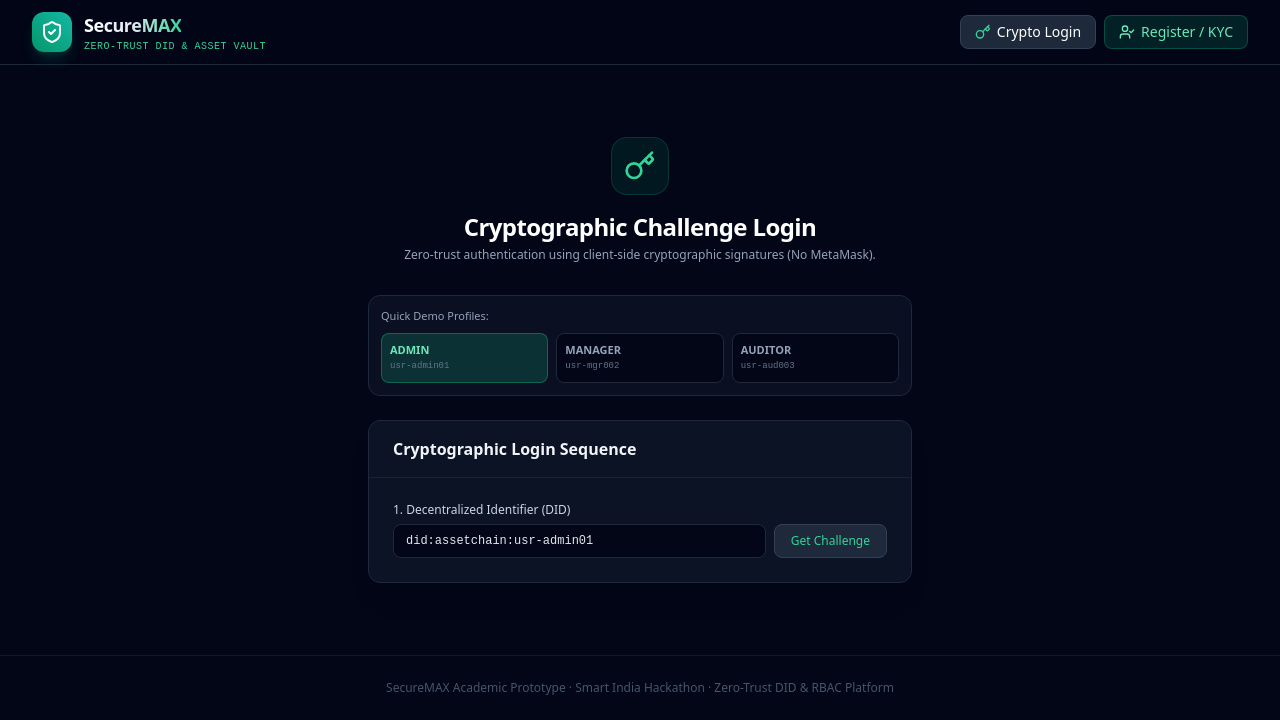
Test: Frontend UI Components & Navigation › should navigate to KYC registration and allow generating keypairs
Click the button "Register / KYC" at x=1176, y=32, box [1104,15,1248,49]
(page scrolled)
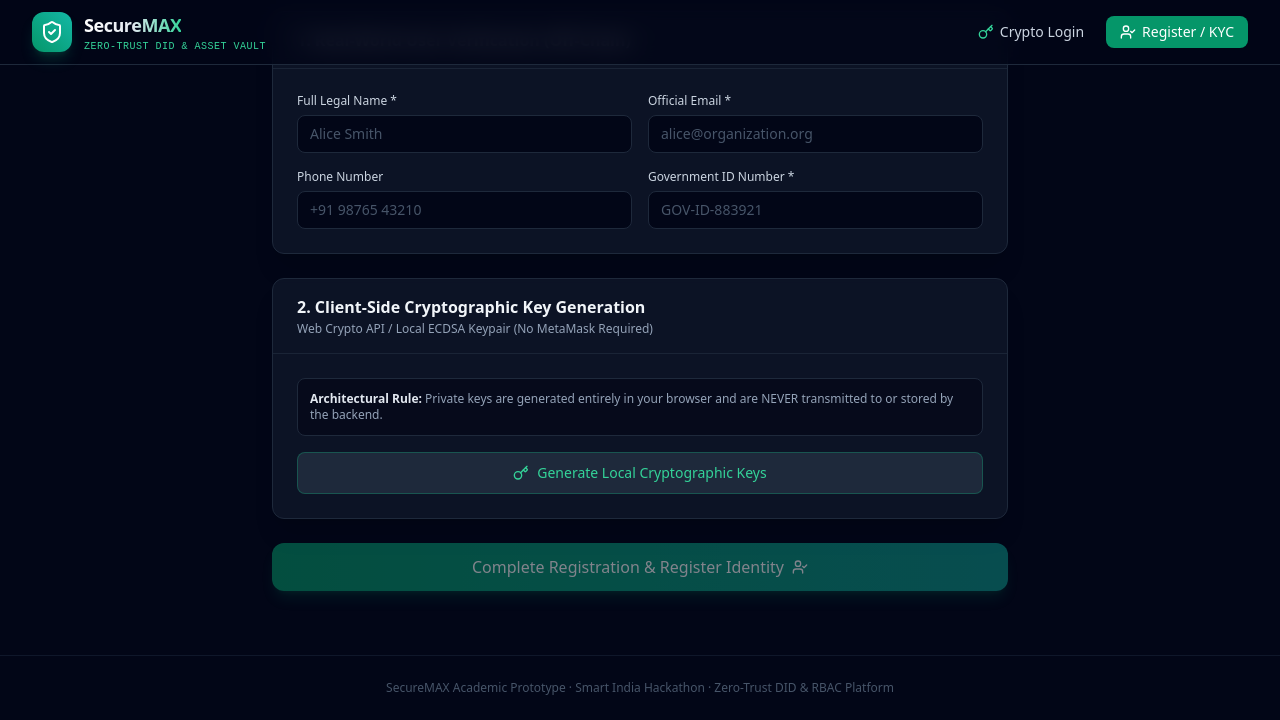
Click the button "Generate Local Cryptographic Keys" at x=640, y=473, box [297,452,983,494]
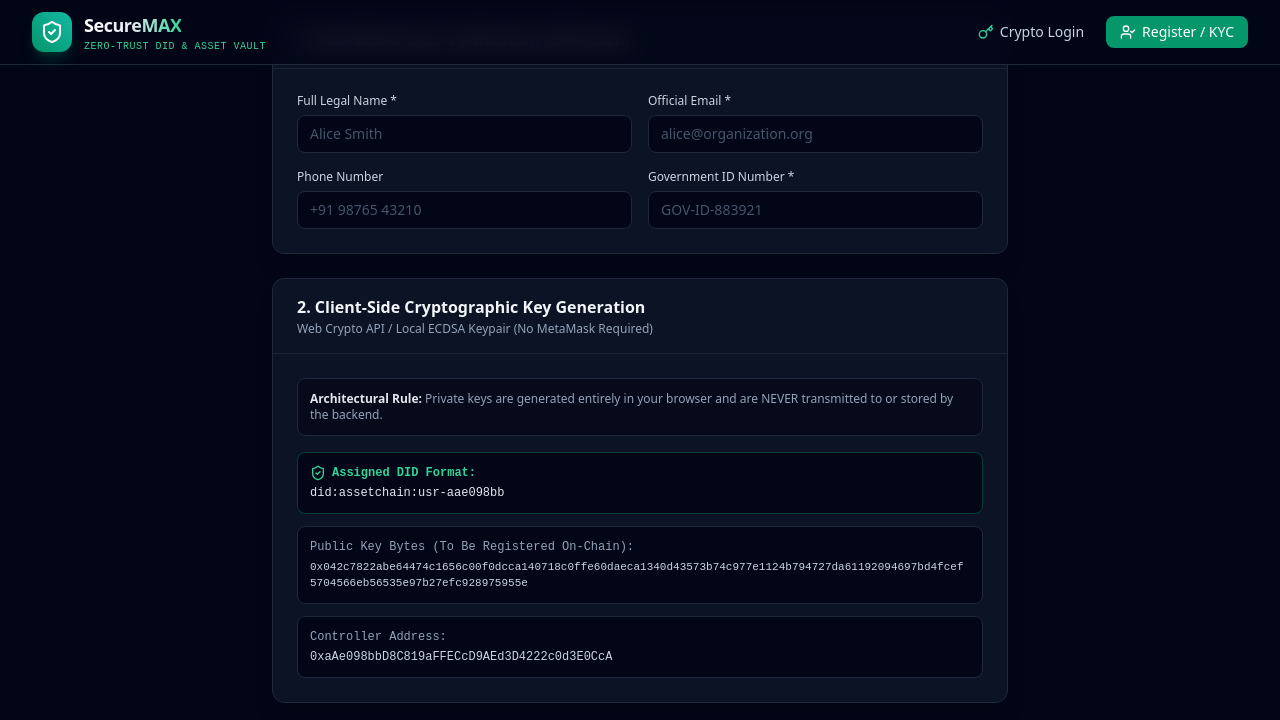
Check: the text "Assigned DID Format:" is shown, box [310,465,476,481]
Check: the text "did:assetchain:usr-" is shown, box [310,486,504,500]
